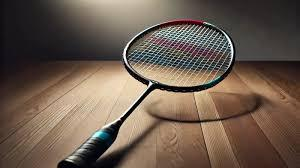badminton racket: (58, 20, 233, 168)
